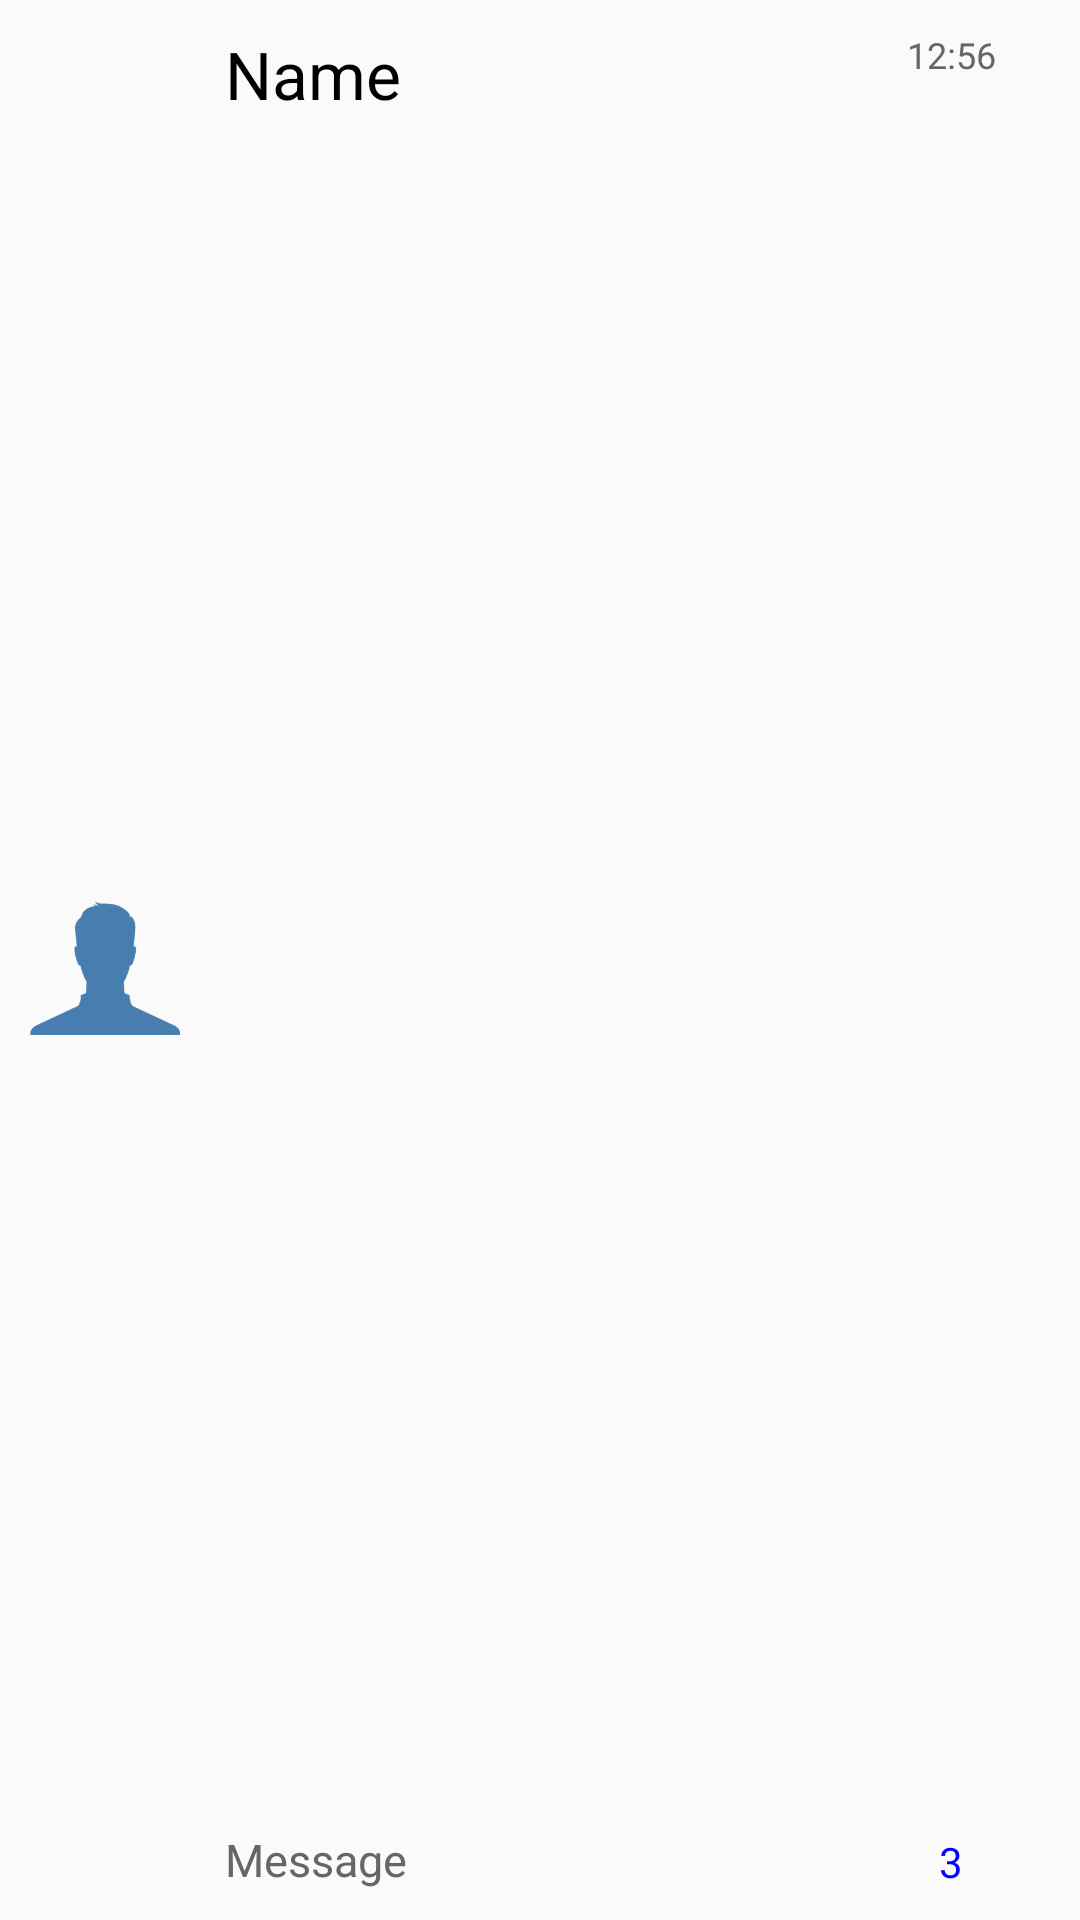

Screen size 1080px×1920px. Icon name, then its center in pixels as point (x, y):
profile: point (105, 968)
